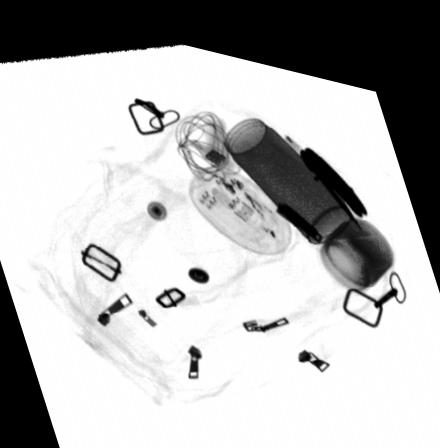Knife: (296, 130, 368, 203)
